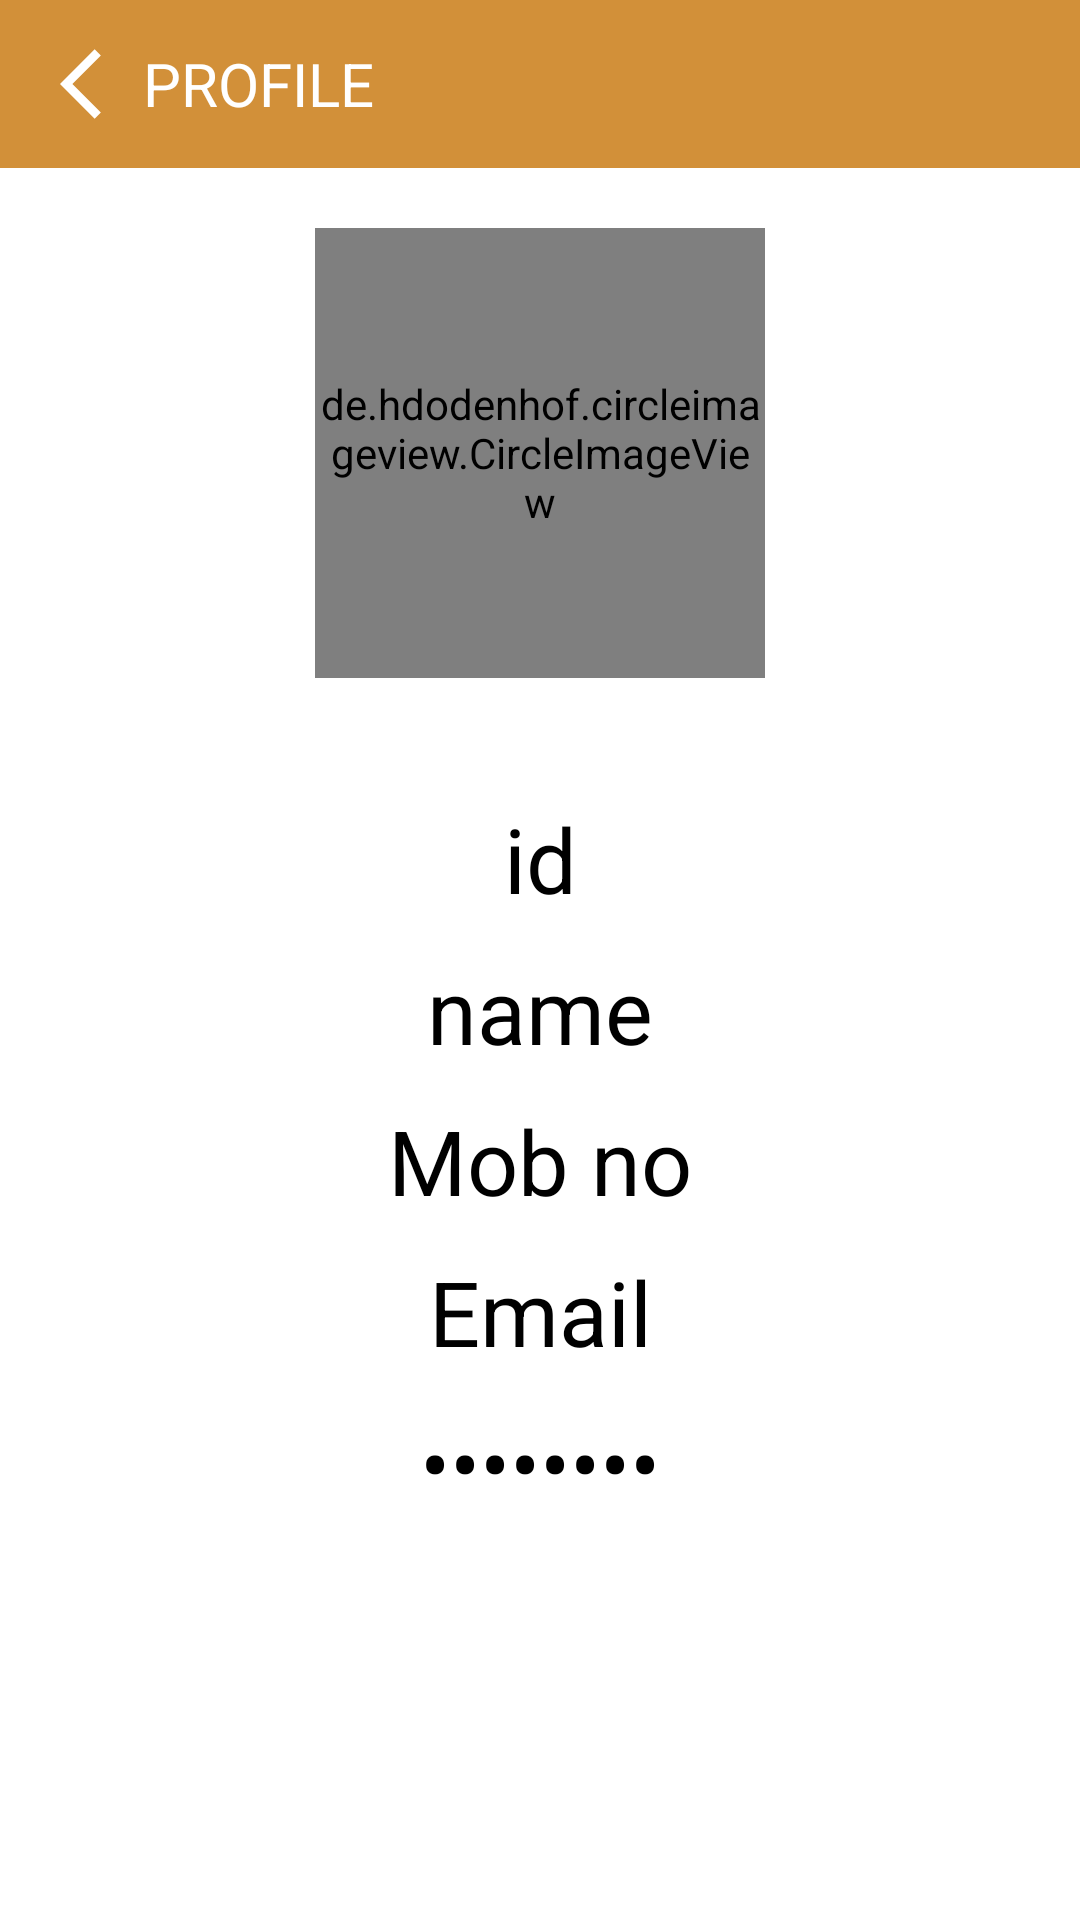

Icon click points for this 1080×1920 phone screenshot, format (x=x, y=y):
arrow back: (x=80, y=84)
